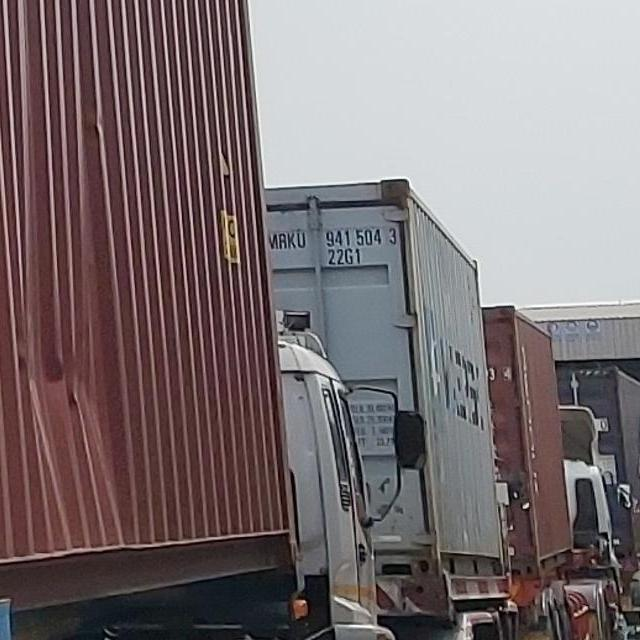dent: (12, 189, 134, 478)
